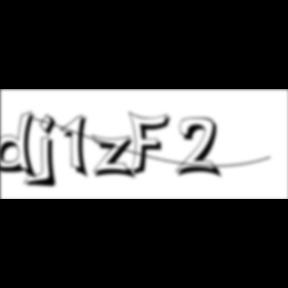1: (60, 114, 94, 182)
2: (176, 117, 226, 181)
F: (128, 110, 176, 178)
d: (1, 110, 44, 182)
j: (36, 113, 64, 191)
z: (92, 134, 140, 182)
